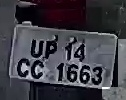1: (51, 59, 65, 85), (64, 41, 74, 62)
3: (92, 63, 102, 86)
4: (72, 42, 87, 63)
6: (79, 63, 91, 86), (66, 62, 79, 83)
C: (29, 61, 47, 80), (14, 57, 29, 79)
P: (43, 41, 59, 61)
U: (29, 38, 43, 59)
